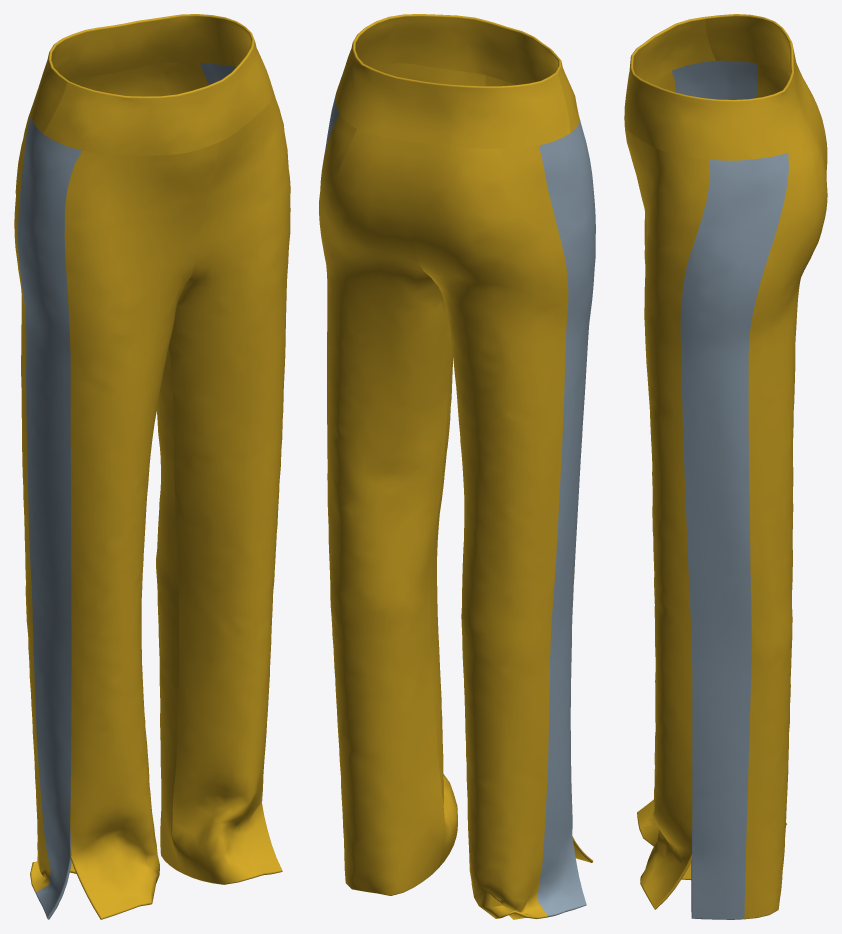
3 renders of one model, left to right at view 1: azimuth 30°, elevation 25°; view 2: azimuth 150°, elevation 25°; view 3: azimuth 270°, elevation 25°, orthographic. The views are drawn at different scales.
Parts seen in each view (by area): view 1: Pattern2D_4640240, Pattern2D_4476826, Pattern2D_4640238, Pattern2D_4220494, Pattern2D_4640241, Pattern2D_4555758; view 2: Pattern2D_4640241, Pattern2D_4555758, Pattern2D_4220494, Pattern2D_4640238, Pattern2D_4640240; view 3: Pattern2D_4640242, Pattern2D_4640241, Pattern2D_4640240, Pattern2D_4220494, Pattern2D_4640238, Pattern2D_4555758, Pattern2D_4476826.
Part boxes in pixels (x1=…): Pattern2D_4640240: x1=169, y1=90, x2=290, y2=884; Pattern2D_4476826: x1=64, y1=142, x2=218, y2=919; Pattern2D_4640238: x1=17, y1=115, x2=81, y2=919; Pattern2D_4220494: x1=31, y1=14, x2=272, y2=155; Pattern2D_4640241: x1=90, y1=62, x2=208, y2=873; Pattern2D_4555758: x1=14, y1=76, x2=93, y2=892; Pattern2D_4640241: x1=319, y1=114, x2=452, y2=895; Pattern2D_4555758: x1=413, y1=143, x2=568, y2=919; Pattern2D_4220494: x1=335, y1=14, x2=579, y2=148; Pattern2D_4640238: x1=537, y1=116, x2=595, y2=917; Pattern2D_4640240: x1=371, y1=63, x2=485, y2=868; Pattern2D_4640242: x1=680, y1=152, x2=788, y2=919; Pattern2D_4640241: x1=744, y1=104, x2=827, y2=919; Pattern2D_4640240: x1=626, y1=127, x2=710, y2=909; Pattern2D_4220494: x1=624, y1=14, x2=811, y2=160; Pattern2D_4640238: x1=672, y1=60, x2=757, y2=99; Pattern2D_4555758: x1=756, y1=63, x2=827, y2=825; Pattern2D_4476826: x1=624, y1=70, x2=675, y2=846.
Size of the model in its own units: 37.7 by 120 by 26.9.
